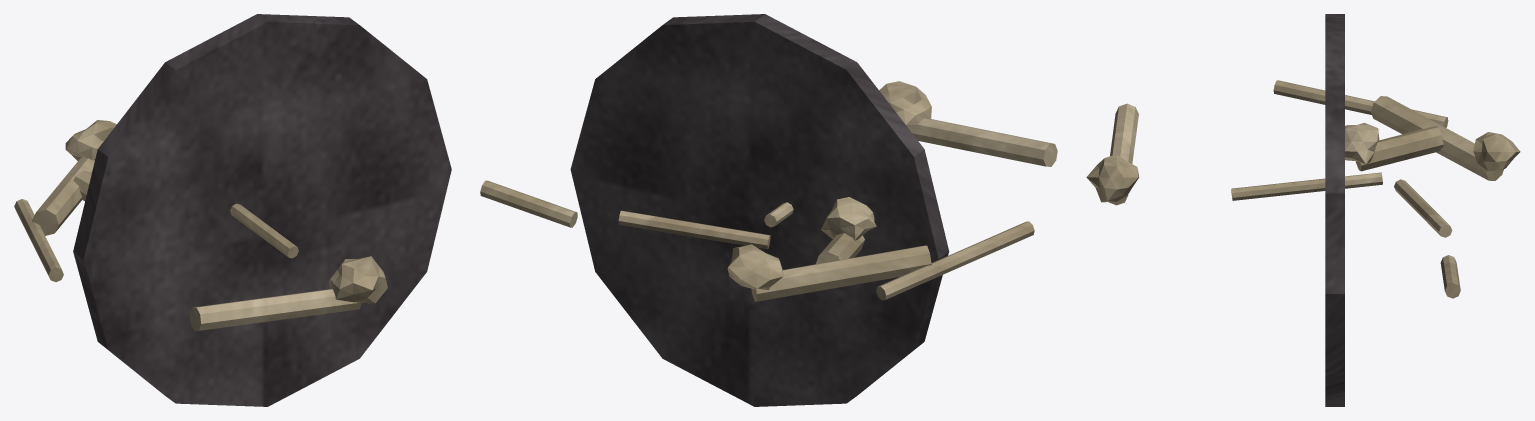
File: 0248_bone_heap_23.glb
3 views of the same model, side by side, from view 1: azimuth 30°, elevation 25°; view 2: azimuth 150°, elevation 25°; view 3: azimuth 270°, elevation 25° (orthographic). The views are drawn at different scales.
Parts seen in each view (by area): view 1: ash, bone; view 2: ash, bone; view 3: bone, ash.
Part boxes in pixels (bbox=[...]): ash: bbox=[73, 14, 451, 406]; bone: bbox=[14, 120, 387, 330]; ash: bbox=[570, 14, 949, 406]; bone: bbox=[480, 81, 1057, 301]; bone: bbox=[1086, 80, 1520, 298]; ash: bbox=[1325, 14, 1344, 406].
Bounding box in the file's own units: 1.99 × 1.6 × 1.76.
2 materials, 2 textured.
